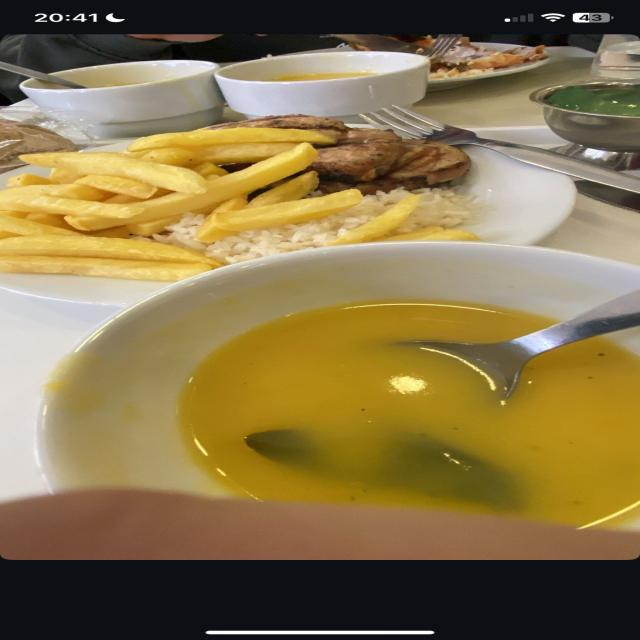fork: (361, 105, 639, 194)
french fries: (0, 128, 366, 282), (321, 194, 479, 246)
gelatin: (530, 81, 639, 152)
plate: (0, 118, 575, 292), (85, 280, 92, 289)
pork: (206, 115, 470, 194)
rice: (155, 190, 483, 264)
soup: (179, 304, 639, 527), (272, 72, 373, 81)
soupbowl: (36, 243, 639, 496)
spoon: (400, 290, 639, 399), (0, 62, 86, 88)
